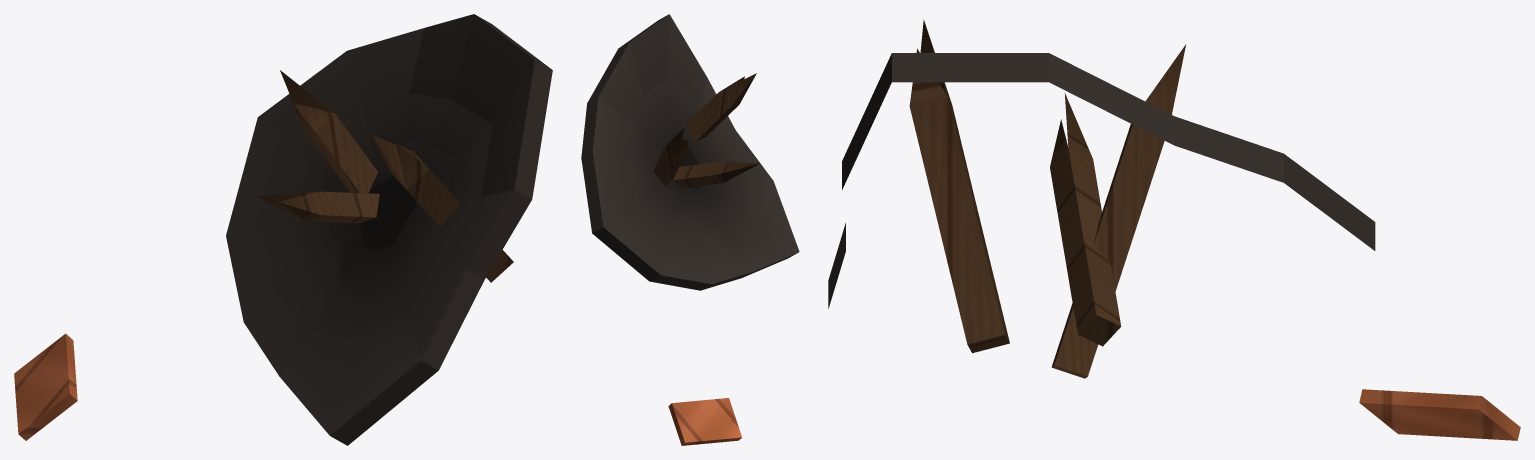
File: category.bridge.xs.ruin.glb
3 renders of one model, left to right at view 1: azimuth 30°, elevation 25°; view 2: azimuth 150°, elevation 25°; view 3: azimuth 270°, elevation 25°, orthographic. The views are drawn at different scales.
Visible parts, largest first — view 1: ruin; view 2: ruin; view 3: ruin.
Part boxes in pixels (box(x1,y1,x2,y2)): ruin: box(14, 14, 552, 445); ruin: box(581, 14, 799, 445); ruin: box(828, 19, 1520, 440).
Bounding box in the file's own units: 1.22 × 1.57 × 1.72.
3 materials, 2 textured.
